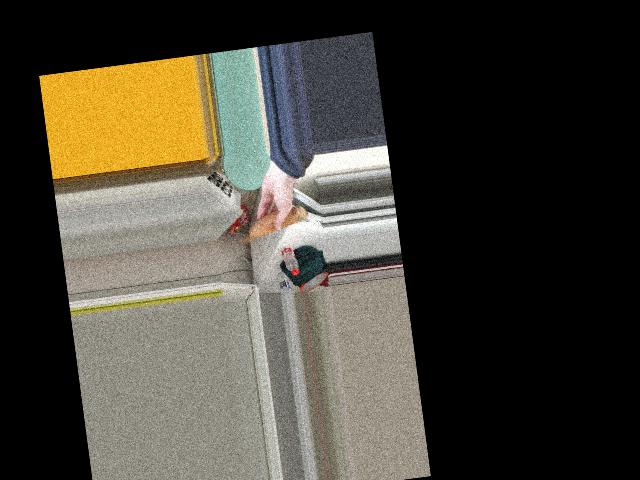sweet_potato: (239, 202, 306, 246)
